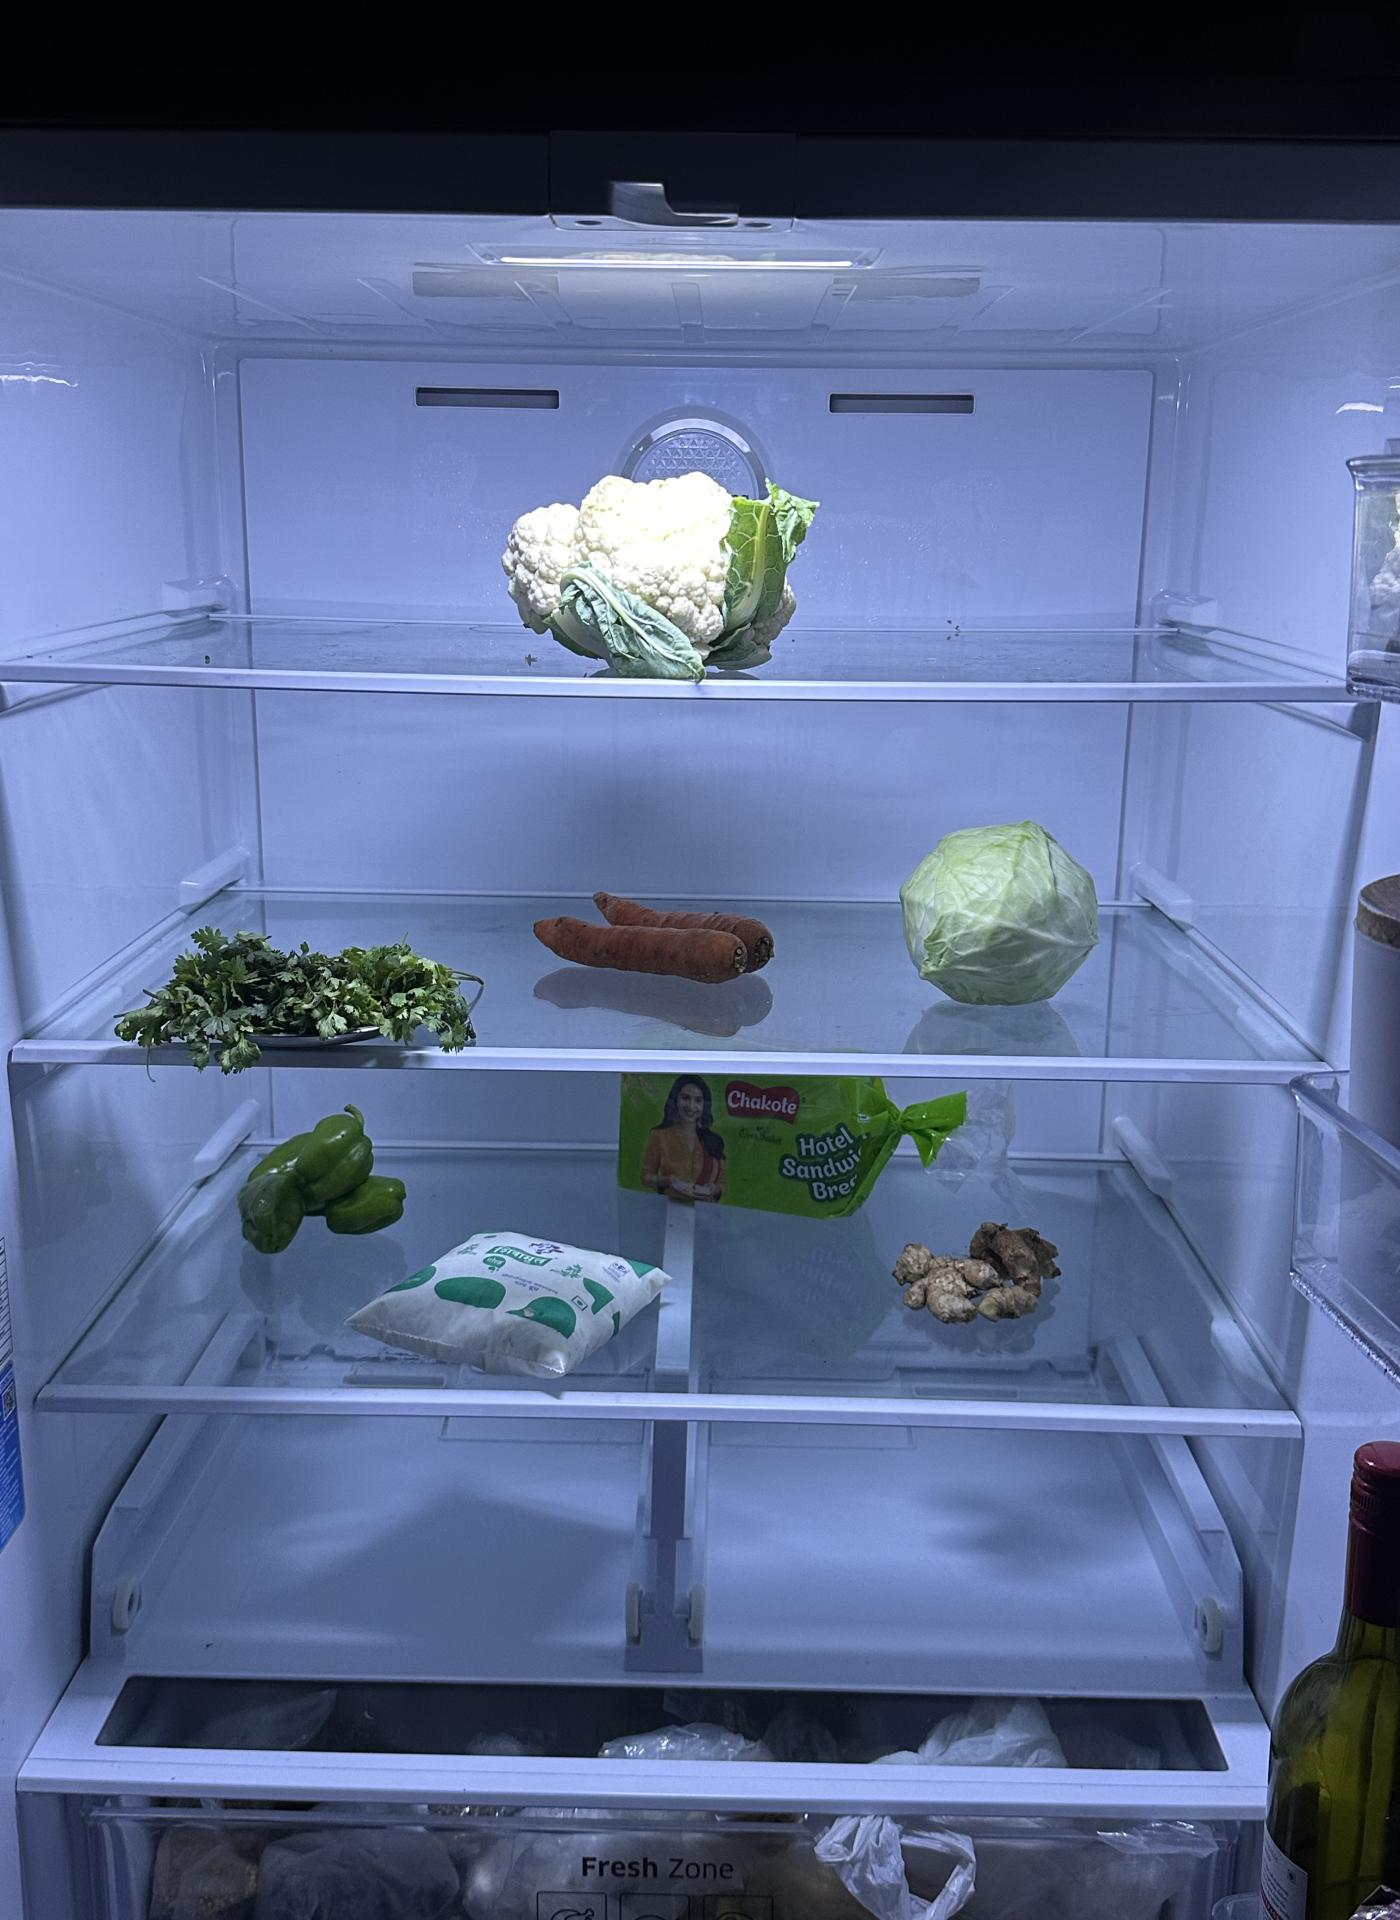bread: (619, 1069, 936, 1221)
cabbage: (896, 806, 1106, 1011)
capsicum: (237, 1106, 410, 1261)
carrots: (528, 881, 786, 987)
cauliflower: (511, 459, 802, 687)
coriander: (112, 926, 482, 1066)
ginger: (890, 1201, 1051, 1342)
milk: (334, 1224, 663, 1376)
